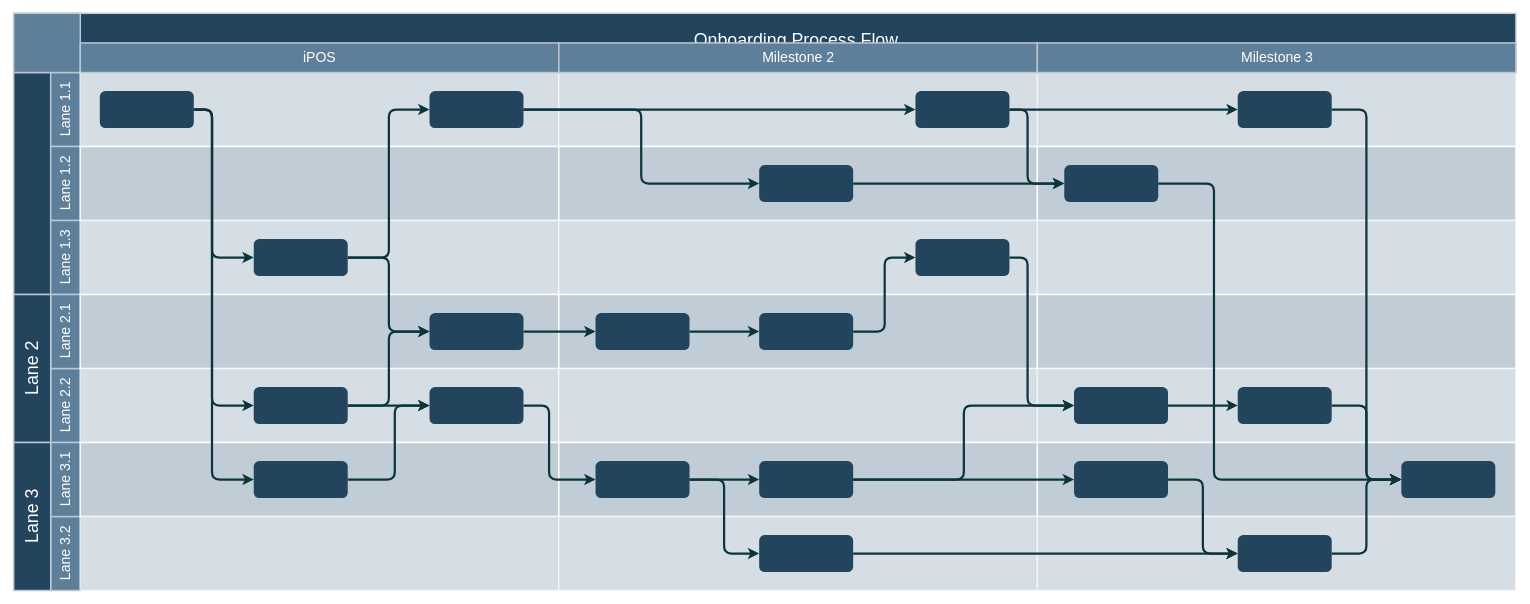
Image size: 1530x604. Some labels were removed from this diagram. Here are the shapes that lost their labels. From the top down, the centre of each, then its label:
the point at 47,42: v 2.0
the point at 32,183: Lane 1
